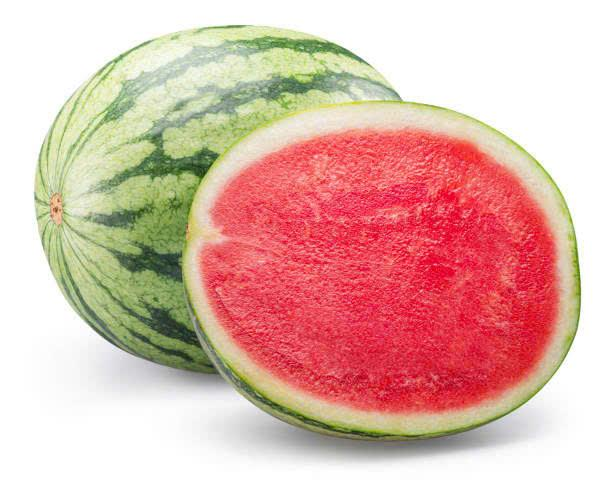watermelon: (196, 113, 580, 433), (28, 24, 234, 383)
